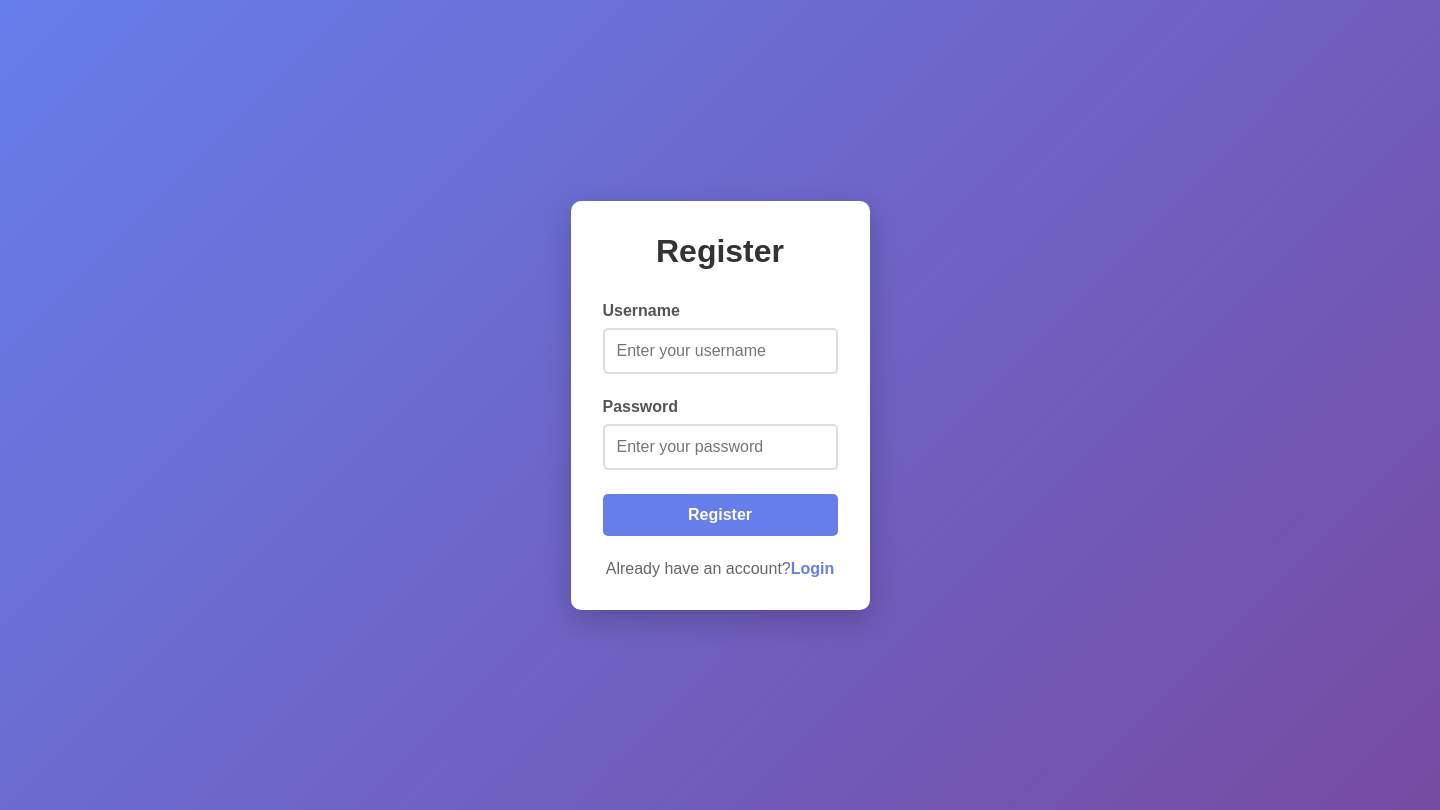
Test case: Register Component › mostra erro de usuário já existente
Step 1. Type "existinguser" into the field labelled "Username" → (720, 350), box [602,328,838,374]
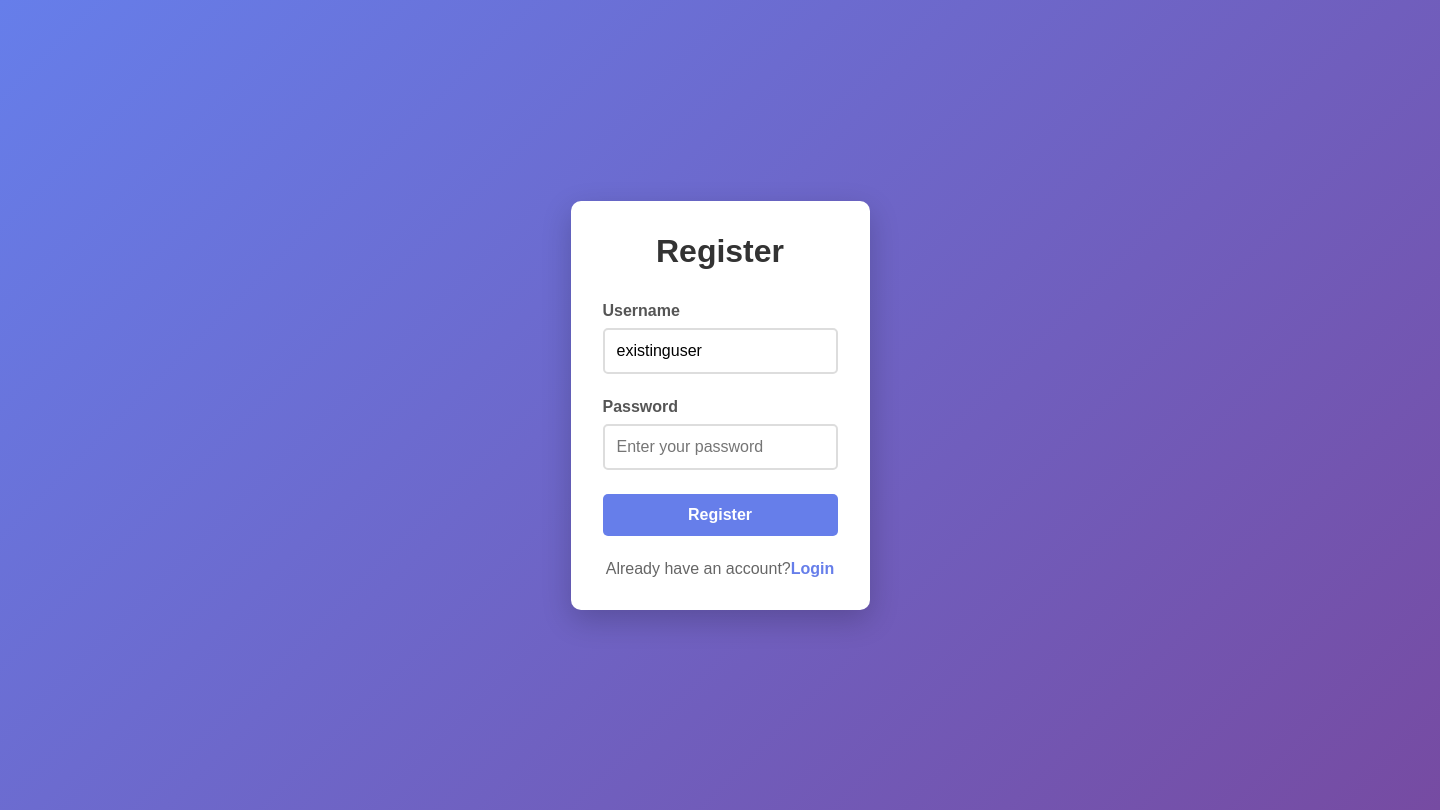
Step 2. Type "password123" into the password field labelled "Password" → (720, 446), box [602,424,838,470]
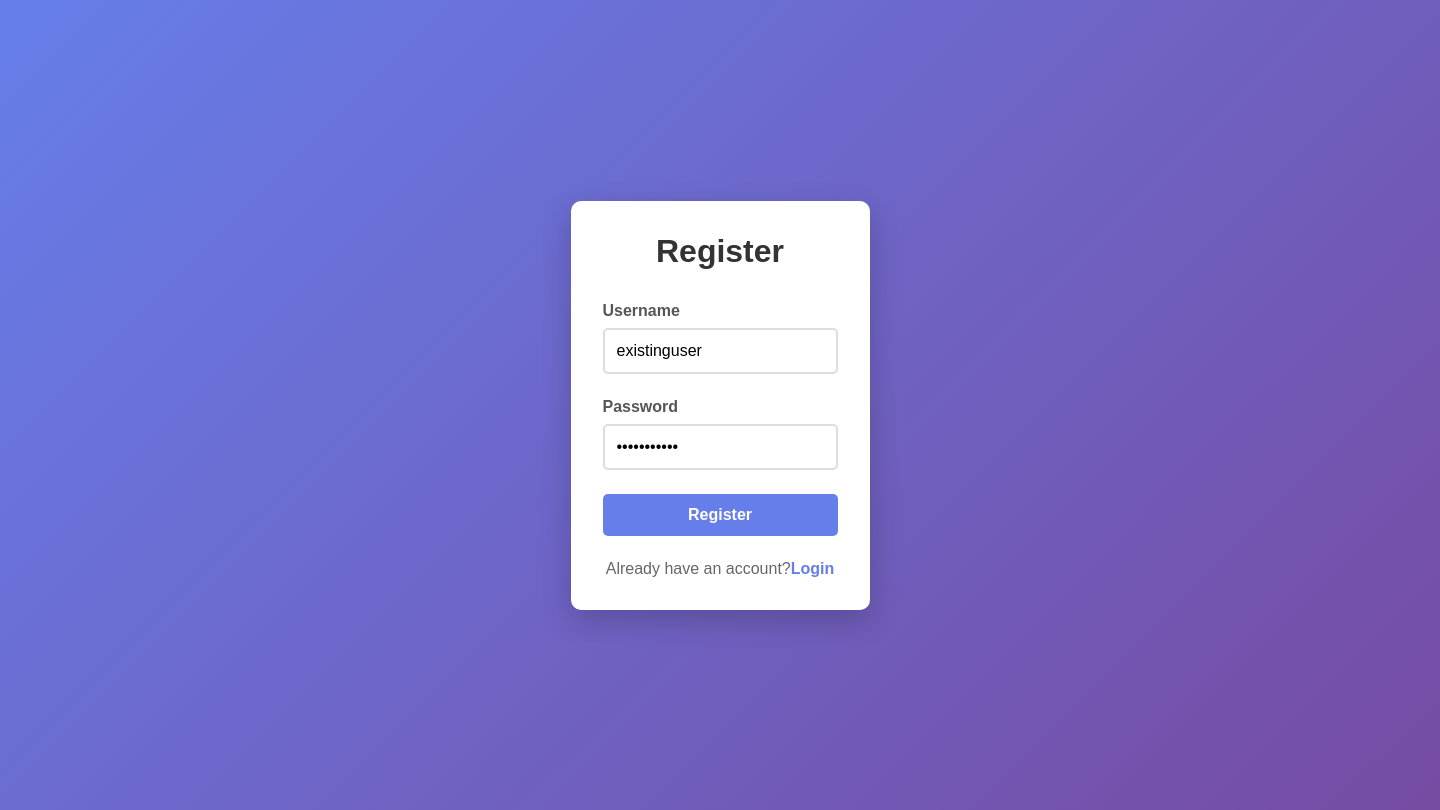
Step 3. Click the button "Register" → (720, 514), box [602,494,838,536]
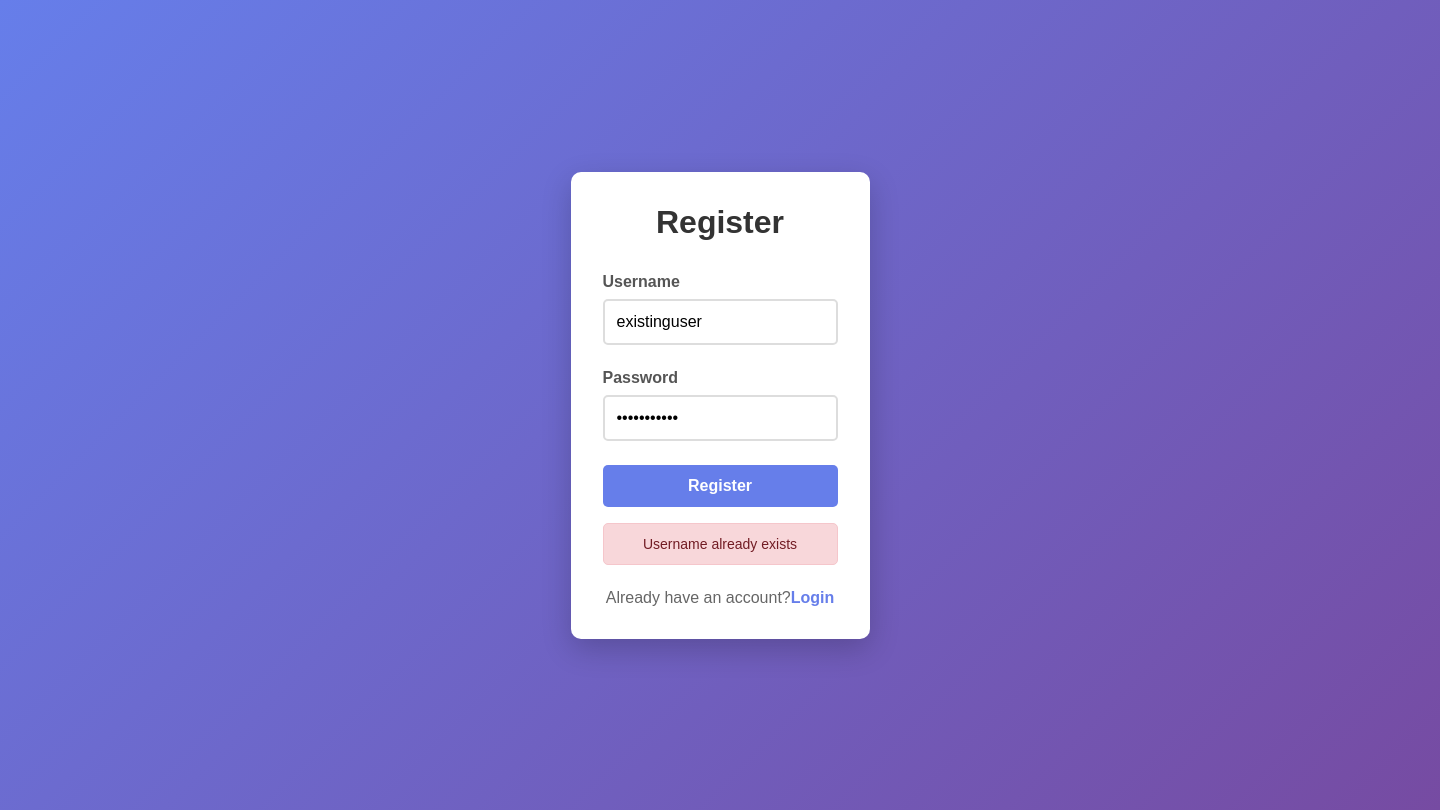
Expected: the text "Username already exists" is shown, [602,522,838,564]
